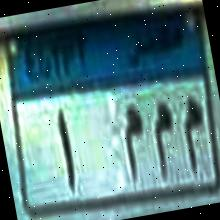1: (52, 104, 84, 194)
meem: (175, 86, 214, 181), (145, 96, 185, 188), (116, 99, 156, 190)
